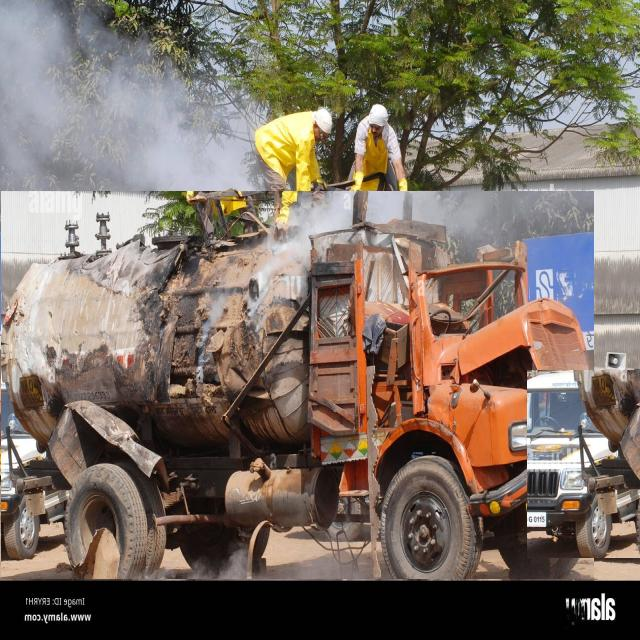accident: (0, 191, 594, 579)
car: (527, 370, 640, 558)
